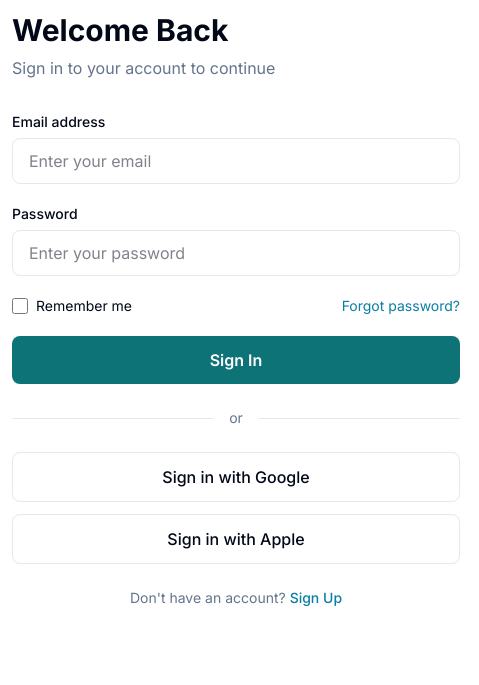
Test: SignInForm › displays a generic error if the thrown error is not a standard Firebase error
The width and height of the screenshot is (479, 685).
In the field labelled "Email address": [236, 161] box [12, 138, 460, 184], type "any@user.com"
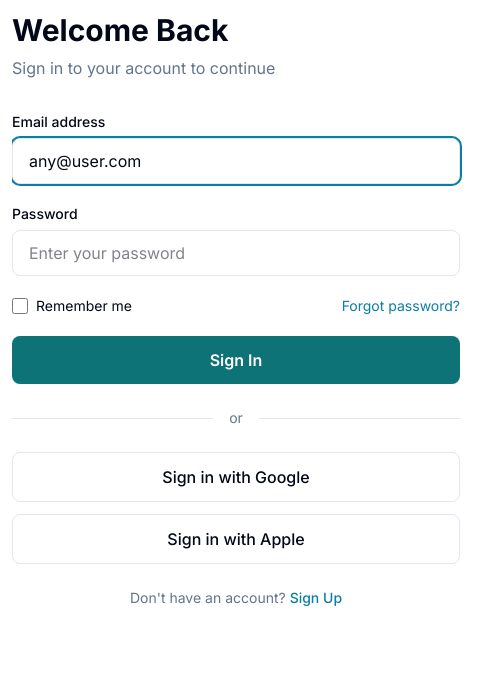
In the password field labelled "Password": [236, 253] box [12, 230, 460, 276], type "anypassword"
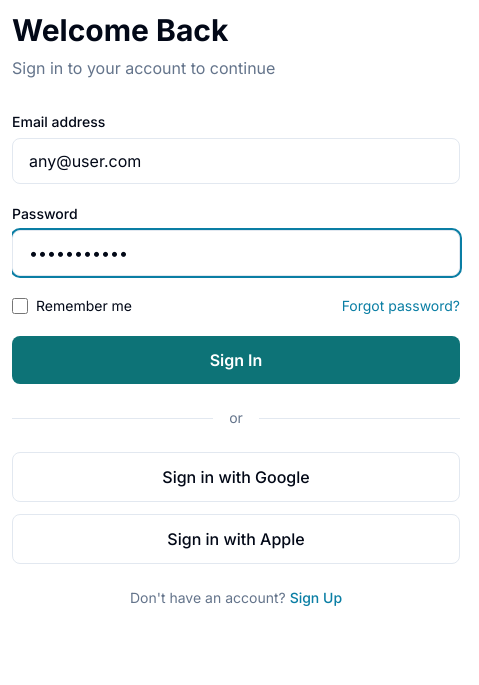
Click the button "Sign In": [236, 360] box [12, 336, 460, 384]
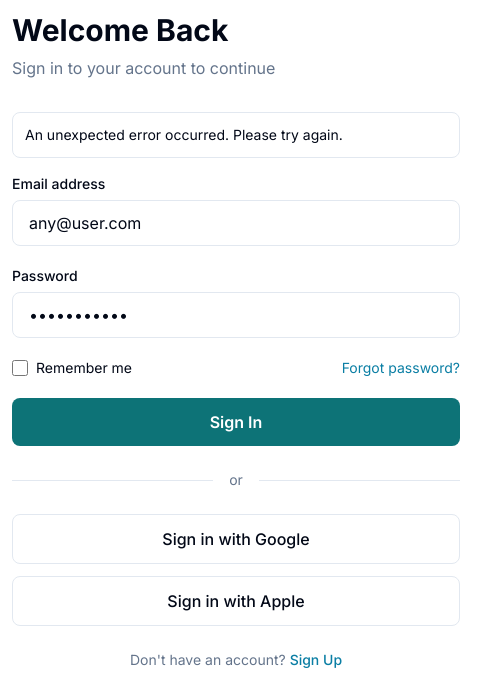
Expected: the text "An unexpected error occurred. Please try again." is shown, [12, 112, 460, 158]
